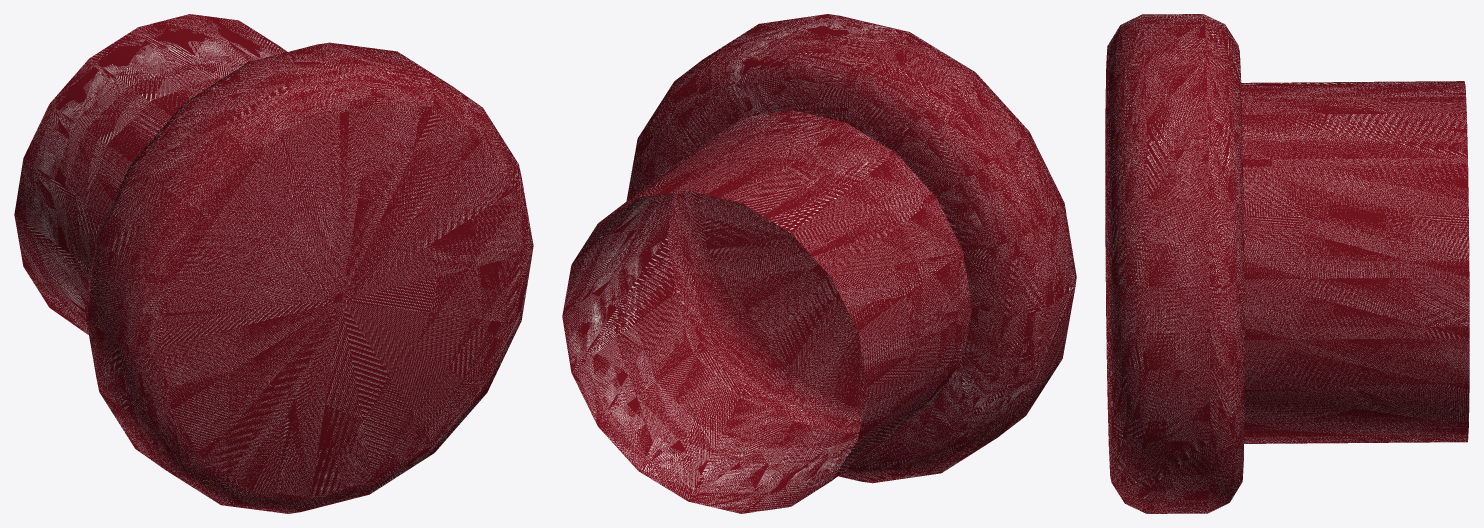
Rendered from original-5.obj.
The picture shows the model from 3 angles, left to right: view 1: azimuth 30°, elevation 25°; view 2: azimuth 150°, elevation 25°; view 3: azimuth 270°, elevation 25°; orthographic projection. The views are drawn at different scales.
Visible parts, largest first — view 1: mesh5/mesh5-geometry#mesh5-geometry; view 2: mesh5/mesh5-geometry#mesh5-geometry; view 3: mesh5/mesh5-geometry#mesh5-geometry.
Boxes of the visible parts, box(x1,y1,x2,y2) form: mesh5/mesh5-geometry#mesh5-geometry: box(14, 14, 533, 513); mesh5/mesh5-geometry#mesh5-geometry: box(562, 14, 1076, 513); mesh5/mesh5-geometry#mesh5-geometry: box(1105, 14, 1469, 513).
Bounding box in the file's own units: 0.0387 × 0.038 × 0.028.
